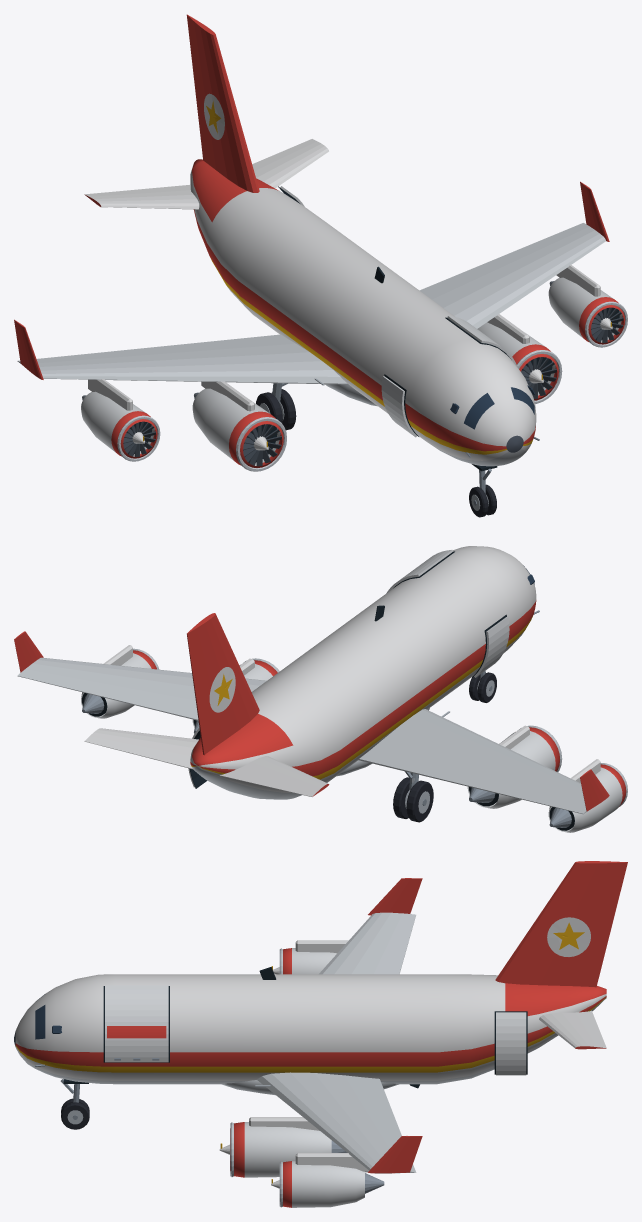
The model's file is skyport-freighter.glb.
3 renders of one model, top to bottom at view 1: azimuth 30°, elevation 25°; view 2: azimuth 150°, elevation 25°; view 3: azimuth 270°, elevation 25°, orthographic. The views are drawn at different scales.
Visible parts, largest first — view 1: sp_freighter_mesh, sp_freighter_fanr_mesh, sp_freighter_wheel_r_mesh, sp_freighter_hold_mesh, sp_freighter_fanl_mesh, sp_freighter_fanl2_mesh, sp_freighter_fanr2_mesh, sp_freighter_wheel_n_mesh; view 2: sp_freighter_mesh, sp_freighter_wheel_r_mesh, sp_freighter_hold_mesh, sp_freighter_wheel_n_mesh, sp_freighter_door_mesh; view 3: sp_freighter_mesh, sp_freighter_door_mesh, sp_freighter_galley_mesh, sp_freighter_wheel_n_mesh.
Boxes of the visible parts, bbox=[...] form: sp_freighter_mesh: bbox=[14, 14, 627, 471]; sp_freighter_fanr_mesh: bbox=[243, 424, 281, 466]; sp_freighter_wheel_r_mesh: bbox=[256, 389, 296, 430]; sp_freighter_hold_mesh: bbox=[381, 376, 416, 437]; sp_freighter_fanl_mesh: bbox=[521, 357, 556, 398]; sp_freighter_fanl2_mesh: bbox=[591, 307, 623, 342]; sp_freighter_fanr2_mesh: bbox=[123, 421, 155, 456]; sp_freighter_wheel_n_mesh: bbox=[469, 484, 496, 517]; sp_freighter_mesh: bbox=[14, 546, 627, 832]; sp_freighter_wheel_r_mesh: bbox=[393, 777, 433, 822]; sp_freighter_hold_mesh: bbox=[474, 617, 509, 677]; sp_freighter_wheel_n_mesh: bbox=[469, 672, 496, 702]; sp_freighter_door_mesh: bbox=[386, 550, 452, 593]; sp_freighter_mesh: bbox=[14, 861, 627, 1207]; sp_freighter_door_mesh: bbox=[105, 985, 168, 1062]; sp_freighter_galley_mesh: bbox=[496, 1012, 526, 1075]; sp_freighter_wheel_n_mesh: bbox=[61, 1098, 89, 1129].
Bounding box in the file's own units: 20.69 × 9.86 × 20.71.
